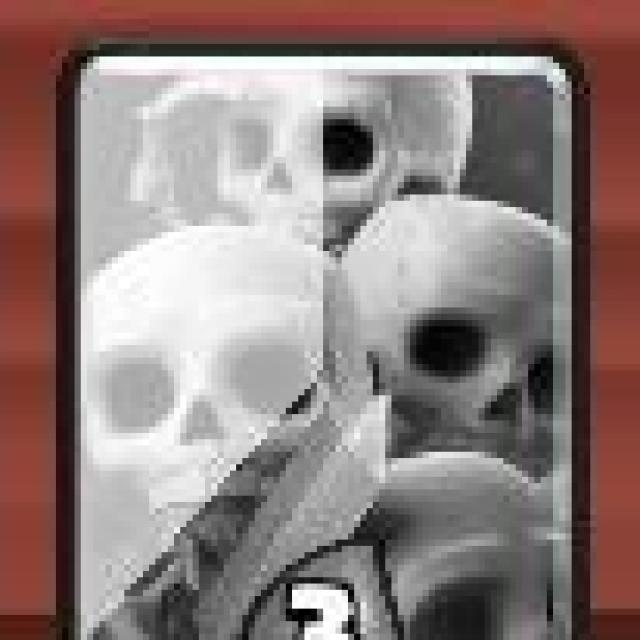Skeleton_Army: (52, 39, 577, 640)
